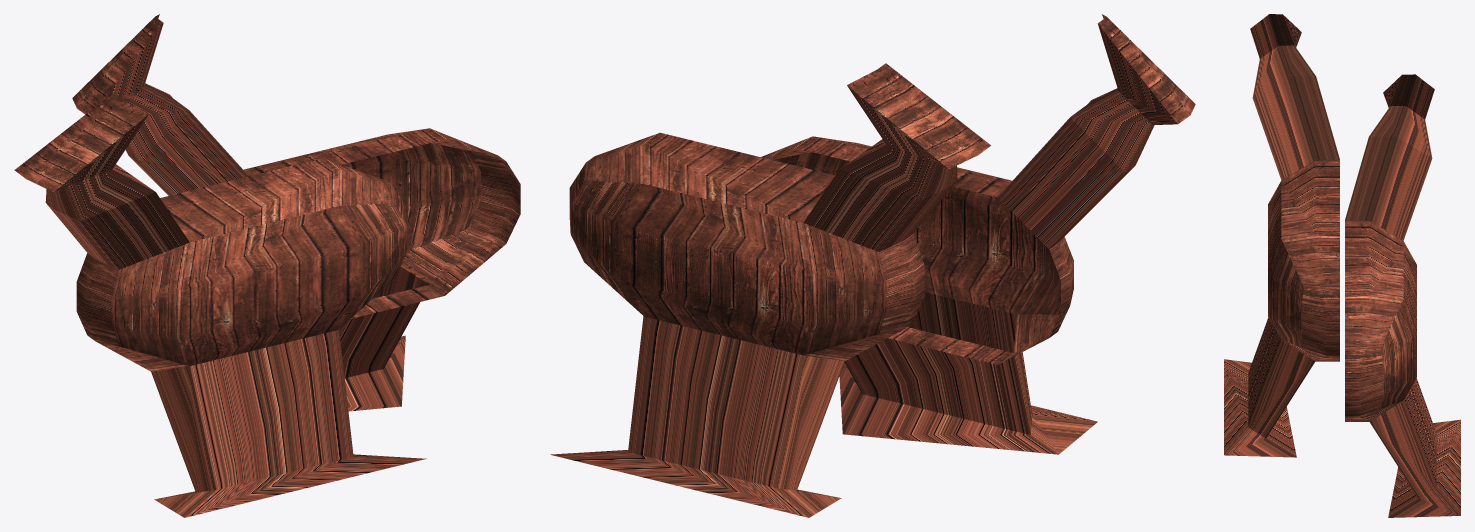
The picture shows the model from 3 angles, left to right: view 1: azimuth 30°, elevation 25°; view 2: azimuth 150°, elevation 25°; view 3: azimuth 270°, elevation 25°; orthographic projection. The views are drawn at different scales.
Visible parts, largest first — view 1: Box001; view 2: Box001; view 3: Box001.
Part boxes in pixels (<box>): Box001: <box>14,14,520,517</box>; Box001: <box>550,14,1195,517</box>; Box001: <box>1224,14,1460,517</box>.
Size of the model in its own units: 158 by 74.97 by 127.
Materials: 1 (1 with a texture image).
